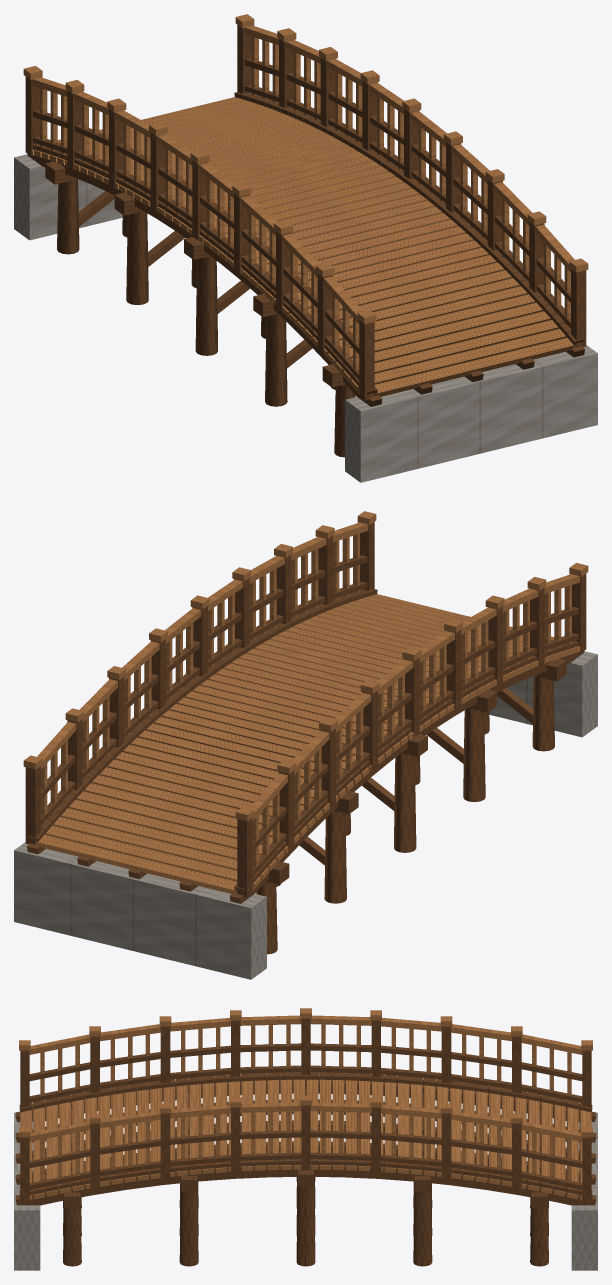
File: jambatan_kayu.glb
The picture shows the model from 3 angles, top to bottom: view 1: azimuth 30°, elevation 25°; view 2: azimuth 150°, elevation 25°; view 3: azimuth 270°, elevation 25°; orthographic projection. The views are drawn at different scales.
Visible parts, largest first — view 1: Jambatan_Kayu; view 2: Jambatan_Kayu; view 3: Jambatan_Kayu.
Part boxes in pixels (box(x1,y1,x2,y2)): Jambatan_Kayu: box(14, 14, 597, 482); Jambatan_Kayu: box(14, 511, 597, 979); Jambatan_Kayu: box(14, 1008, 597, 1270).
Bounding box in the file's own units: 3.16 × 2.53 × 8.
1 material, 1 textured.
